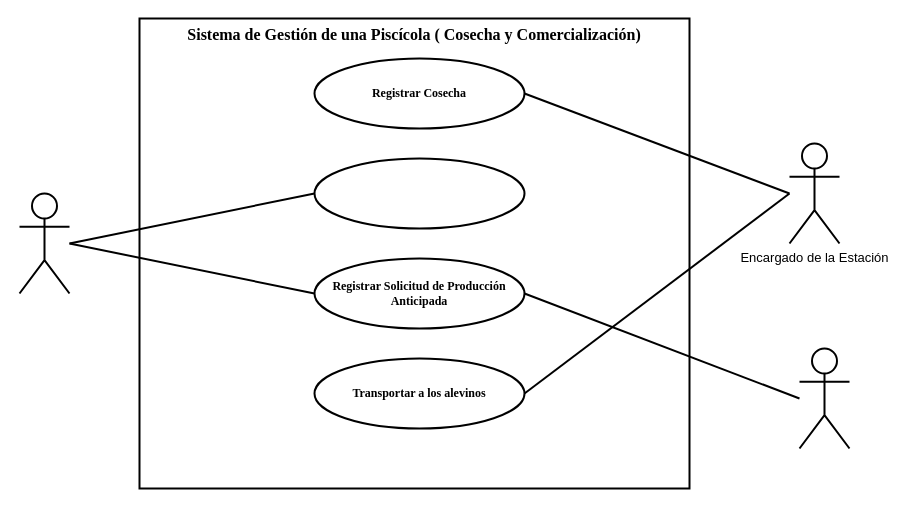
The diagram is 906 pixels wide and 506 high, and some of its shapes have lost their labels. Each missing label, with the centre of its shape:
"Comprador" goes at pixel 824 398.
"Gestionar Ventas" goes at pixel 419 193.
"Piscicultor" goes at pixel 44 243.
